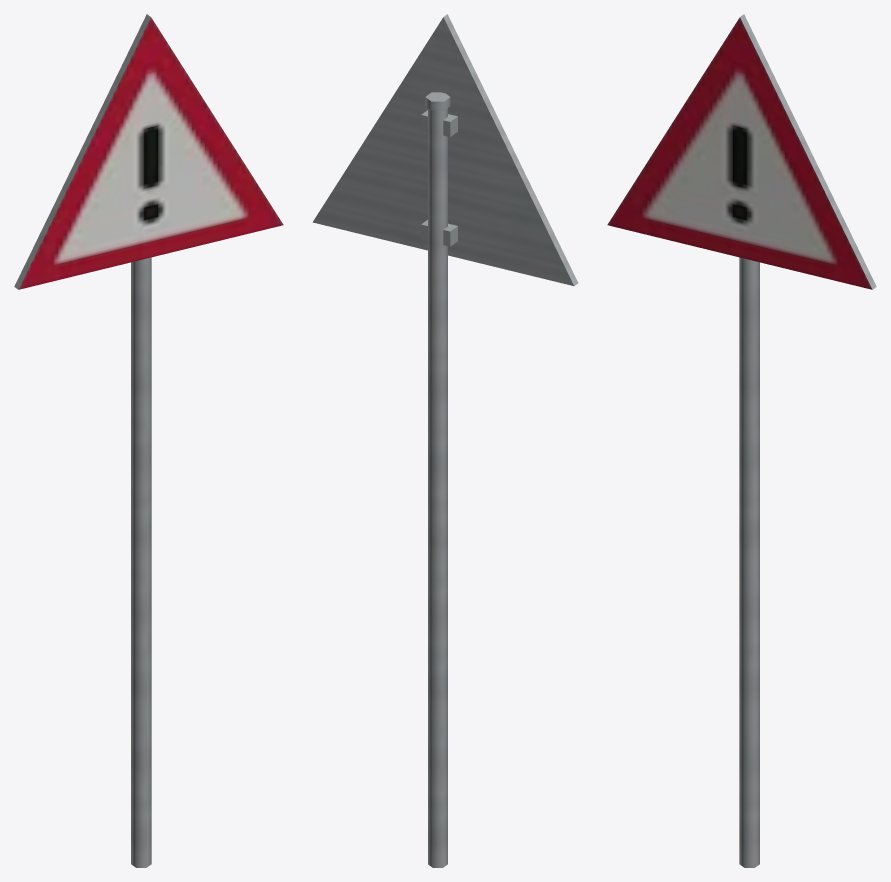
The model's file is panneau_danger_lod1.glb.
3 renders of one model, left to right at view 1: azimuth 30°, elevation 25°; view 2: azimuth 150°, elevation 25°; view 3: azimuth 330°, elevation 25°, orthographic.
Visible parts, largest first — view 1: panneau_danger; view 2: panneau_danger; view 3: panneau_danger.
Part boxes in pixels (x1,y1,x2,y2): panneau_danger: (14, 14, 283, 867); panneau_danger: (312, 14, 578, 867); panneau_danger: (607, 14, 876, 867).
Size of the model in its own units: 0.9001 by 2.77 by 0.095.
1 material, 1 textured.
